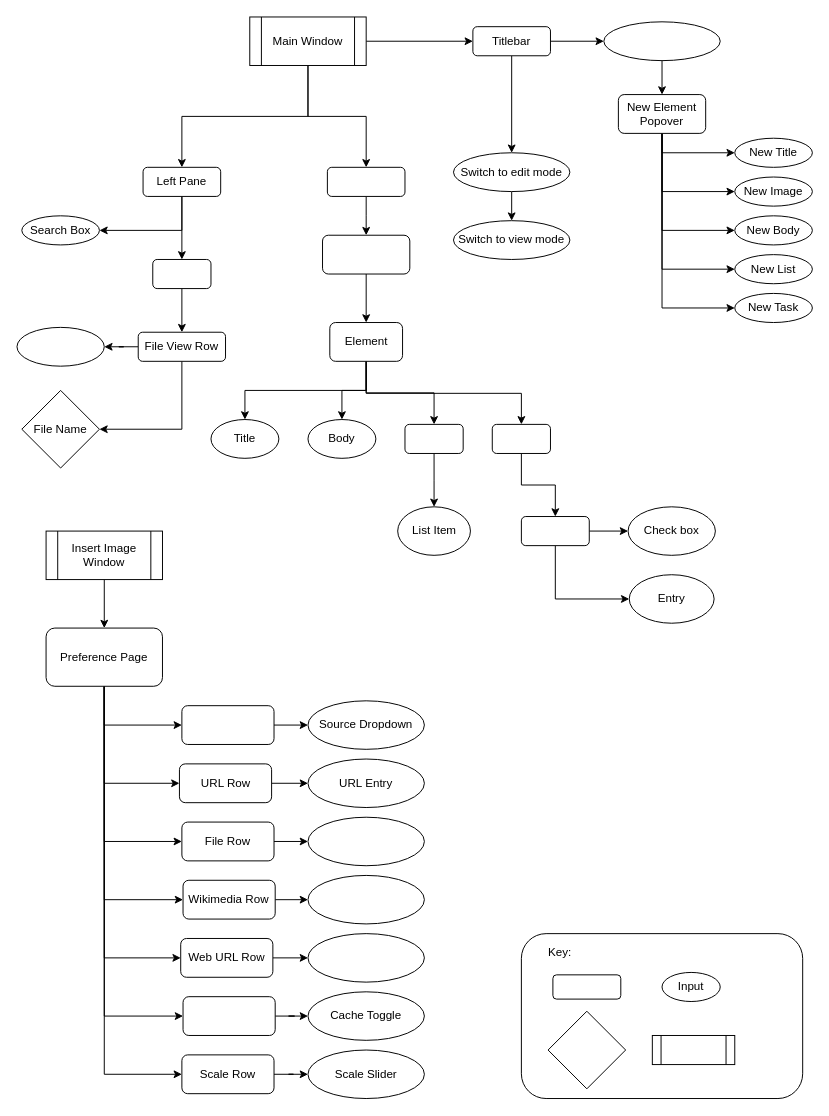
Image size: 829x1116. Some labels were removed from this diagram. Here are the shapes that lost their labels. From the top down, the centre of each, then its label:
pixel 661 41: New Element Button
pixel 365 181: Right Pane
pixel 181 274: File Viewer
pixel 366 254: Note View
pixel 60 346: Colour Button
pixel 433 438: List
pixel 520 438: Task
pixel 554 531: Task Item
pixel 227 724: Source Row
pixel 365 841: File Path Entry
pixel 365 899: Wikimedia Entry
pixel 365 957: Web URL Entry
pixel 586 986: Container
pixel 228 1015: Cache Row
pixel 586 1049: Label
pixel 693 1050: Window
